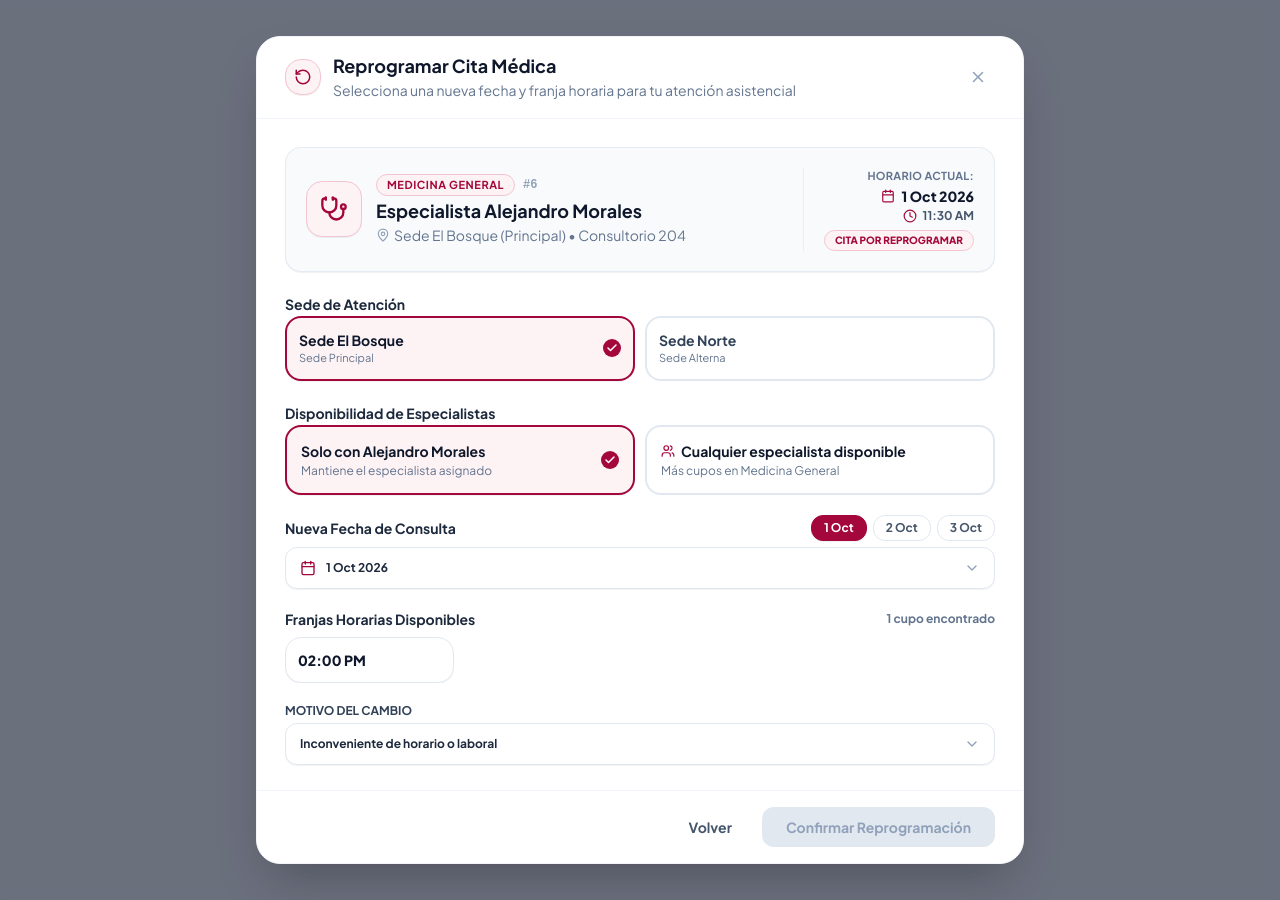
Test: RescheduleAppointmentModal › permite alternar entre el mismo especialista y cualquier especialista disponible dentro de la especialidad
This screenshot has width=1280, height=900.
# Hace clic en "Cualquier especialista disponible"
What coordinates should you click on to do the following:
click the button "Cualquier especialista disponible"
I would click on:
 (820, 460)
Its box is x1=645 y1=424 x2=995 y2=494.
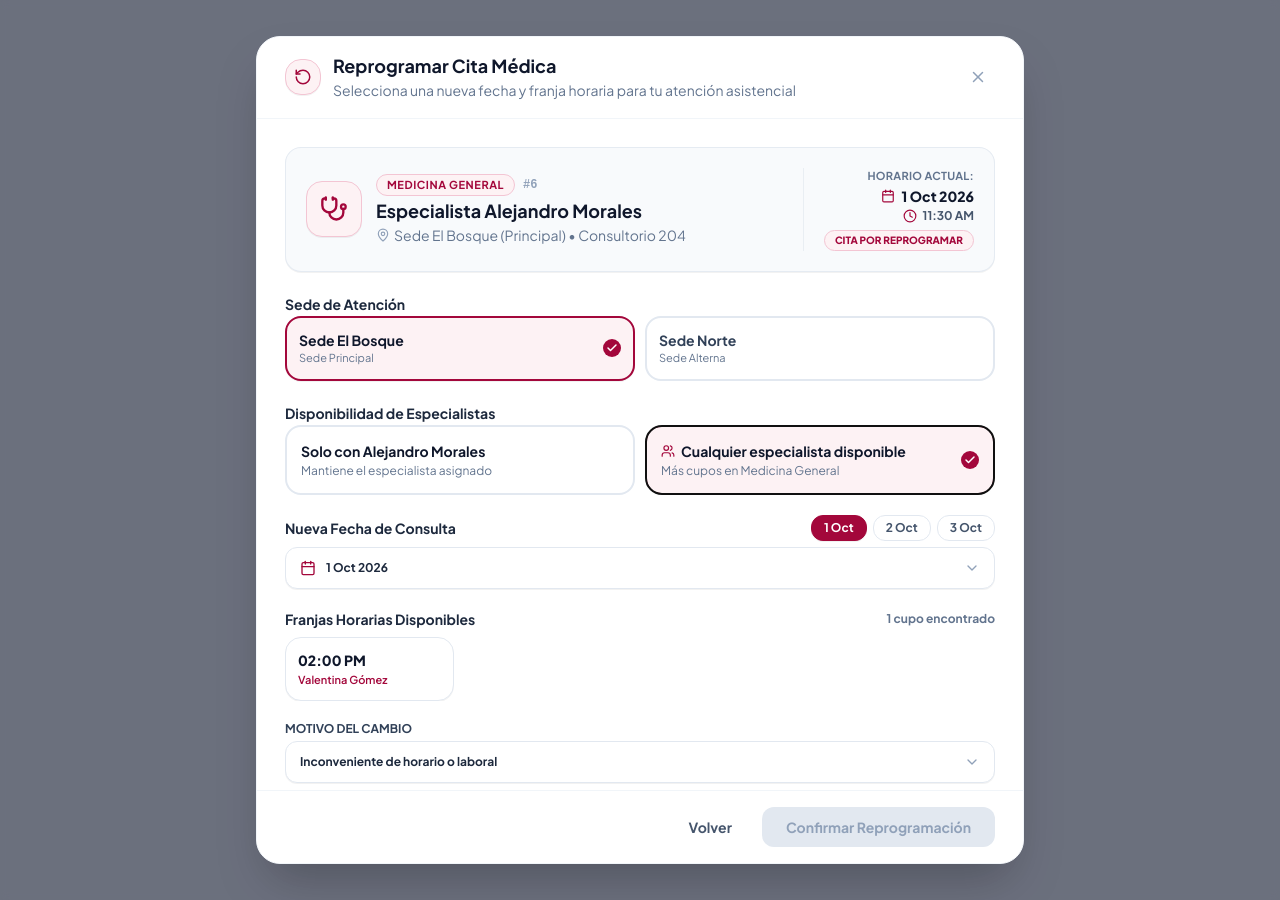
Check: the button "02:00 PM Valentina Gómez" is shown, box x1=285 y1=636 x2=454 y2=701
Check: the text "Valentina Gómez" is shown, box x1=298 y1=672 x2=387 y2=686
